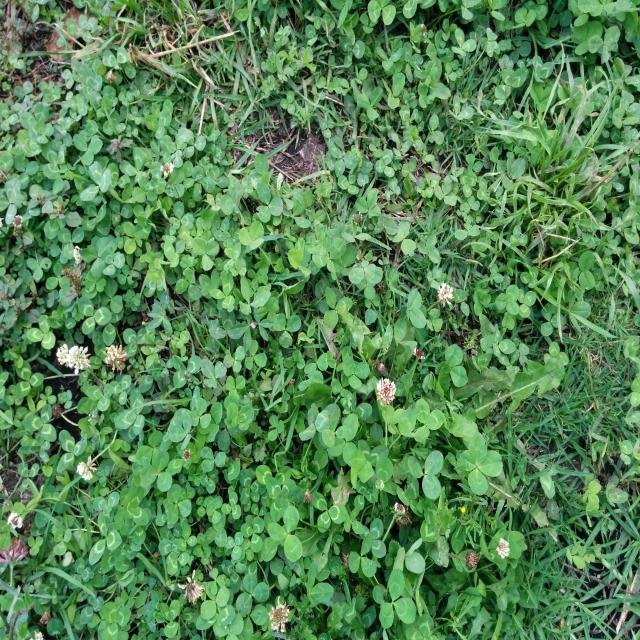Four Leaf Clover: (459, 430, 503, 496)
